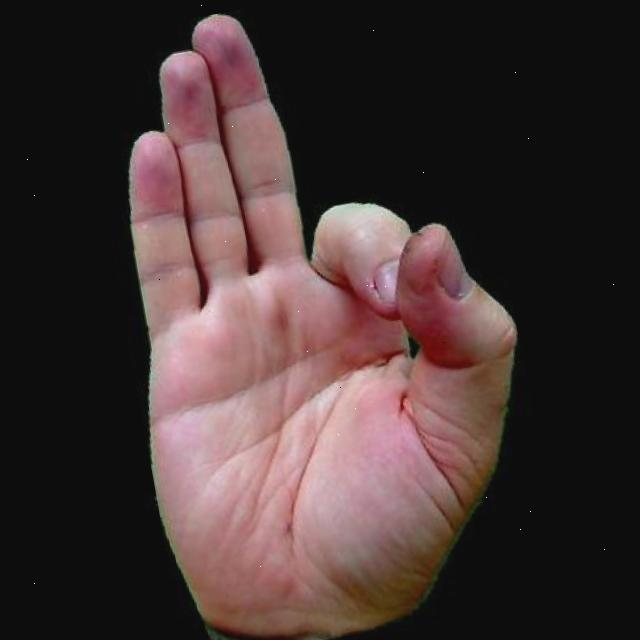f: (61, 0, 563, 640)
